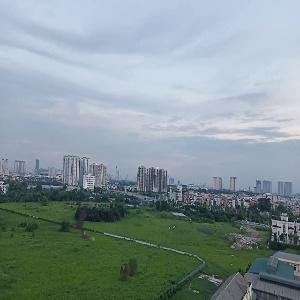drone: (49, 184, 120, 255)
